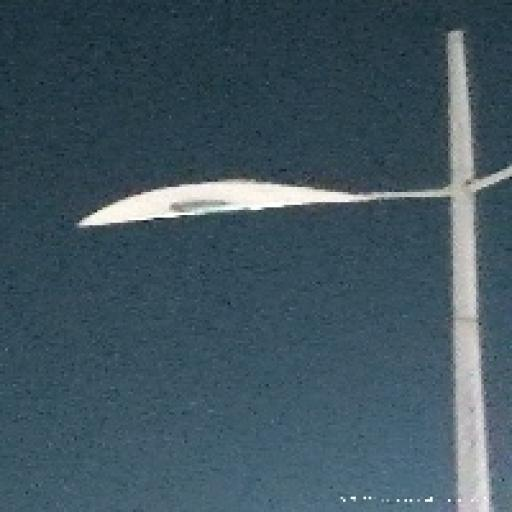Not Working: (44, 164, 375, 258)
